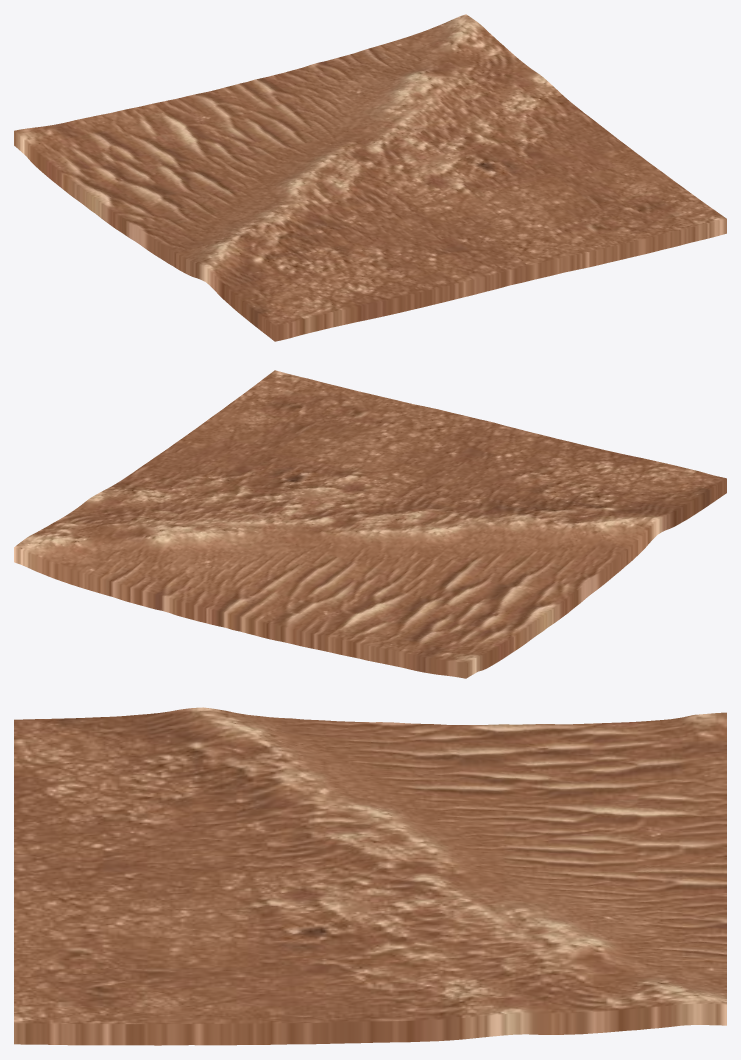
The picture shows the model from 3 angles, top to bottom: view 1: azimuth 30°, elevation 25°; view 2: azimuth 150°, elevation 25°; view 3: azimuth 270°, elevation 25°; orthographic projection. The views are drawn at different scales.
Parts seen in each view (by area): view 1: L6_36_52; view 2: L6_36_52; view 3: L6_36_52.
Part boxes in pixels (x1=…): L6_36_52: x1=14, y1=14, x2=726, y2=341; L6_36_52: x1=14, y1=370, x2=726, y2=678; L6_36_52: x1=14, y1=707, x2=726, y2=1045.
Bounding box in the file's own units: 225 × 14.59 × 225.
Materials: 1 (1 with a texture image).
